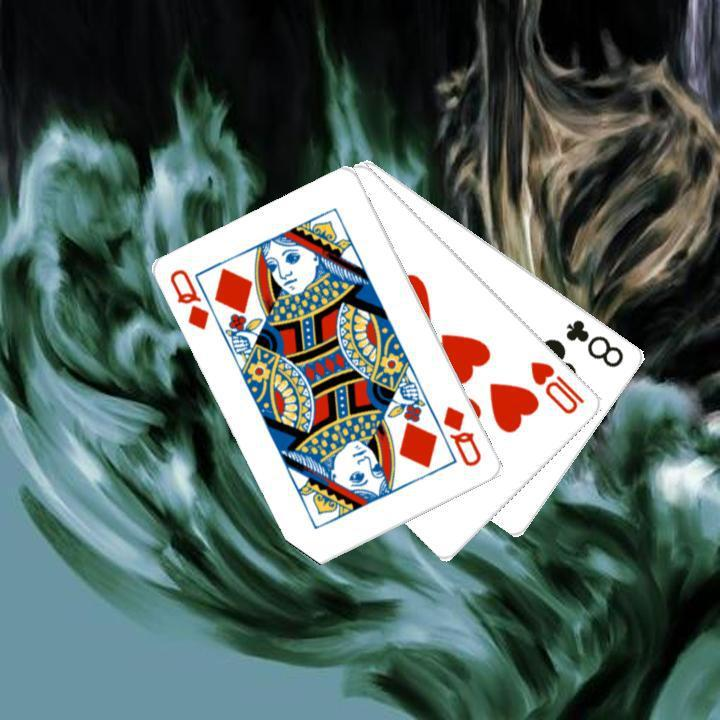10: (526, 357, 587, 416)
8: (561, 315, 627, 370)
Q: (439, 401, 485, 469), (166, 264, 212, 332)
